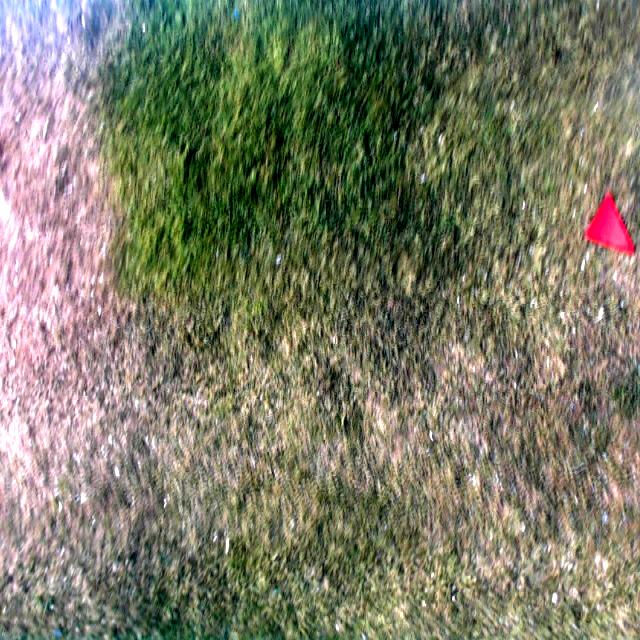red_triangle: (586, 192, 634, 257)
